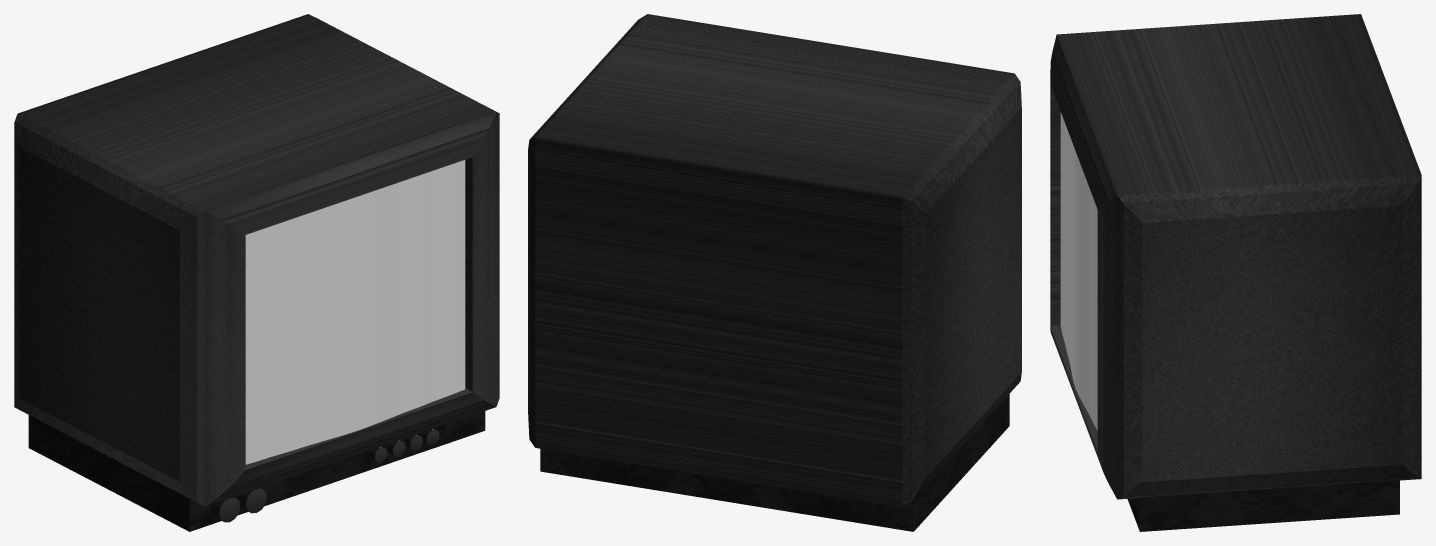
The model's file is CRT.fbx.
The picture shows the model from 3 angles, left to right: view 1: azimuth 30°, elevation 25°; view 2: azimuth 150°, elevation 25°; view 3: azimuth 270°, elevation 25°; orthographic projection. The views are drawn at different scales.
Visible parts, largest first — view 1: CRT, CRT Screen; view 2: CRT; view 3: CRT, CRT Screen.
Boxes of the visible parts, left/top/right/bottom form: CRT: left=14, top=14, right=499, bottom=531; CRT Screen: left=245, top=160, right=465, bottom=464; CRT: left=528, top=14, right=1021, bottom=531; CRT: left=1050, top=14, right=1421, bottom=531; CRT Screen: left=1060, top=112, right=1097, bottom=430.
Size of the model in its own units: 654 by 535 by 535.
Materials: 1 (1 with a texture image).
